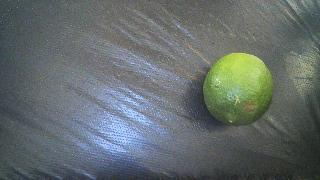DESECHO: (203, 53, 273, 126)
